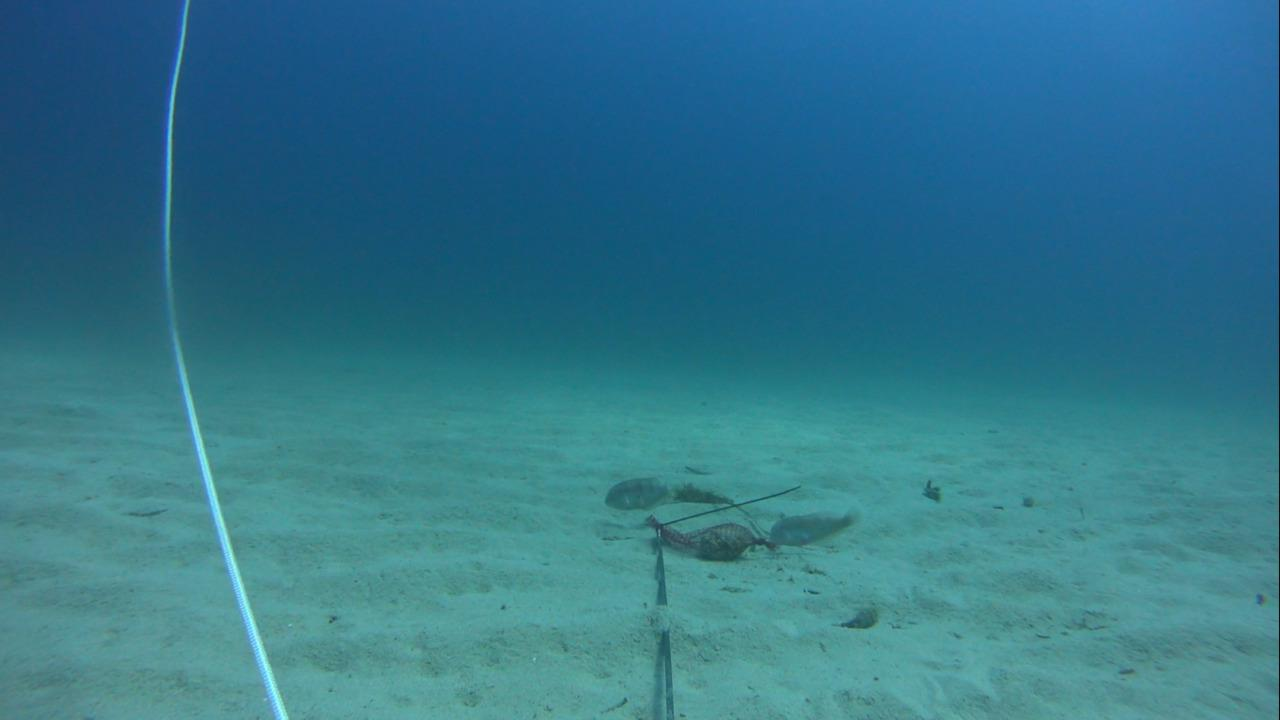raor: (768, 508, 863, 550), (600, 472, 675, 511)
